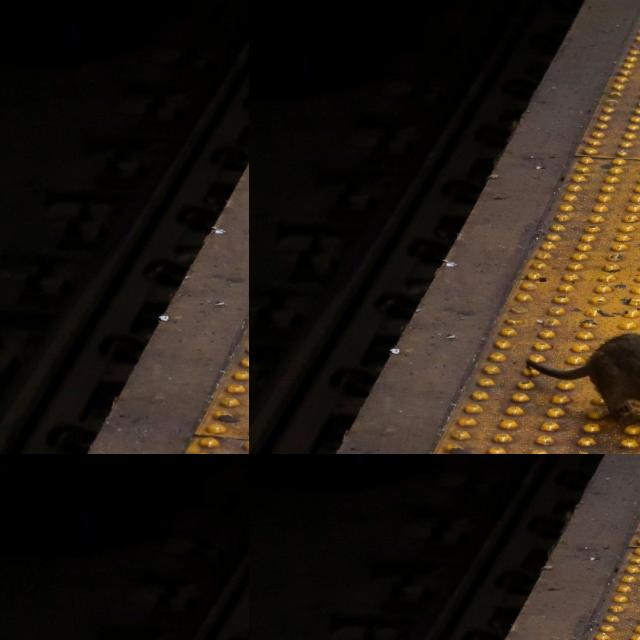rat: (0, 497, 249, 640), (249, 380, 384, 454), (512, 70, 614, 137), (556, 0, 640, 74), (490, 236, 538, 334)
